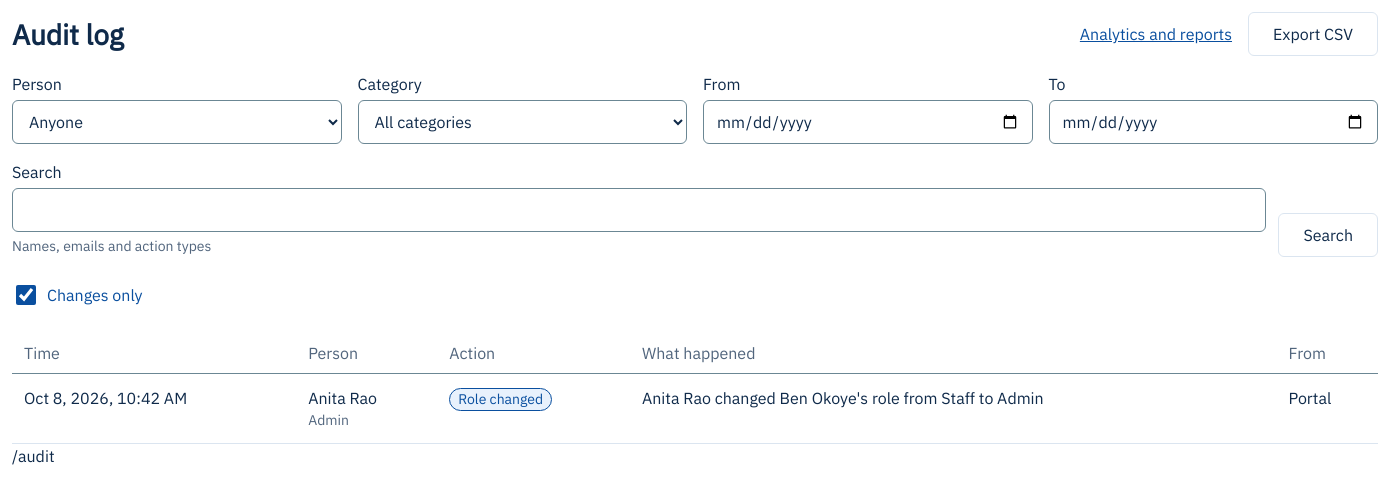
Scenario: AuditPage › filters › keeps keyboard focus in the search box after searching with Enter
This screenshot has width=1390, height=483.
Expected: the table named "Audit log" is shown, [12,333,1378,444]
Click the search field labelled "Search": click(639, 210) [12,188,1266,232]
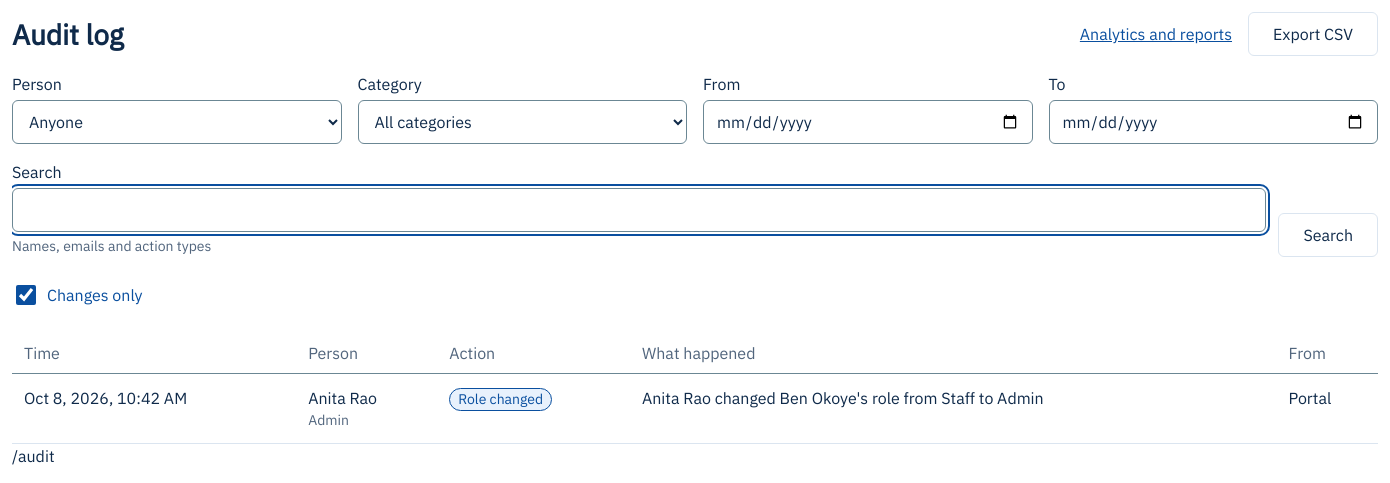
Type keys "ben{Enter}"
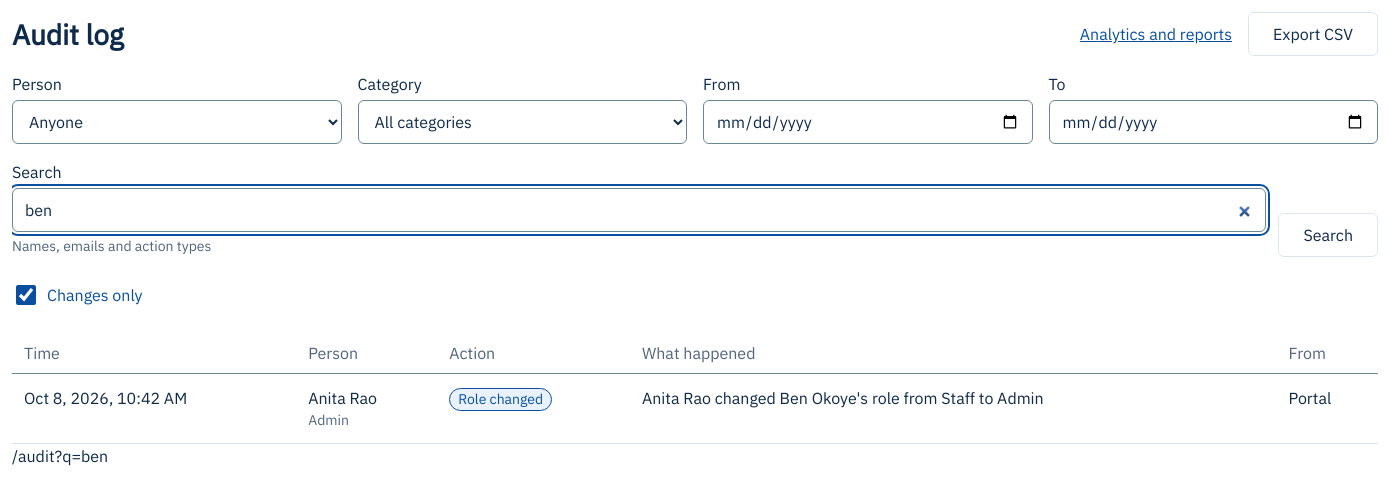
Expected: the table named "Audit log" is shown, [12,333,1378,444]
Now the search field labelled "Search" holds "ben", box [12,188,1266,232]
